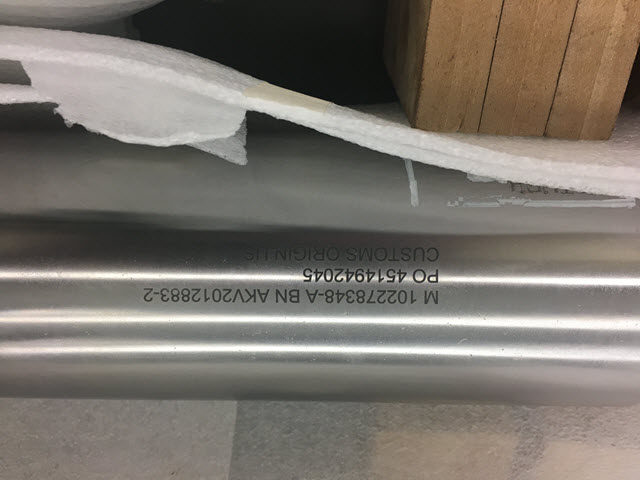character: (240, 242, 257, 269), (301, 287, 320, 309), (420, 288, 441, 307), (356, 246, 377, 265), (410, 266, 428, 287), (290, 243, 308, 263), (273, 287, 289, 309), (255, 284, 272, 304), (274, 242, 290, 263), (411, 245, 427, 265), (286, 286, 303, 304), (424, 245, 441, 263), (255, 243, 271, 262), (300, 265, 315, 285), (323, 286, 336, 308), (385, 245, 400, 264), (311, 244, 326, 263), (140, 284, 154, 304), (312, 264, 325, 285), (243, 286, 258, 304), (426, 266, 441, 284), (345, 246, 360, 264), (200, 285, 214, 304), (343, 264, 357, 283), (231, 286, 244, 306), (373, 246, 388, 263), (407, 287, 419, 308), (211, 285, 223, 306), (332, 266, 346, 284), (343, 287, 356, 306), (399, 245, 413, 262), (169, 286, 182, 304), (326, 245, 339, 263), (221, 285, 232, 306), (396, 286, 408, 305), (354, 287, 366, 306), (384, 268, 397, 285), (323, 265, 334, 285), (386, 287, 398, 305), (366, 287, 377, 306), (364, 267, 377, 283), (158, 286, 170, 303), (375, 267, 387, 284), (375, 287, 386, 305), (190, 287, 202, 303), (396, 268, 408, 284), (354, 266, 365, 283), (334, 287, 344, 305), (151, 286, 161, 303), (180, 286, 190, 302), (305, 243, 312, 263), (316, 287, 324, 304), (287, 242, 293, 264)
